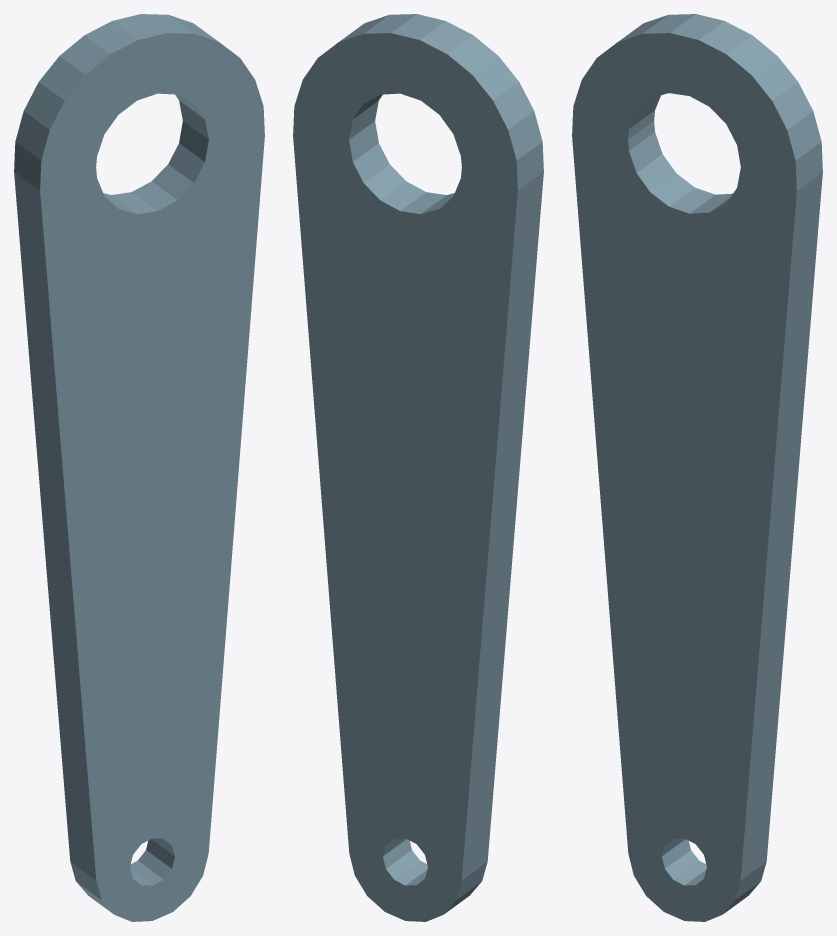
Rendered from arm2.obj.
3 views of the same model, side by side, from view 1: azimuth 30°, elevation 25°; view 2: azimuth 150°, elevation 25°; view 3: azimuth 330°, elevation 25° (orthographic).
Size of the model in its own units: 0.4983 by 1.87 by 0.1.
